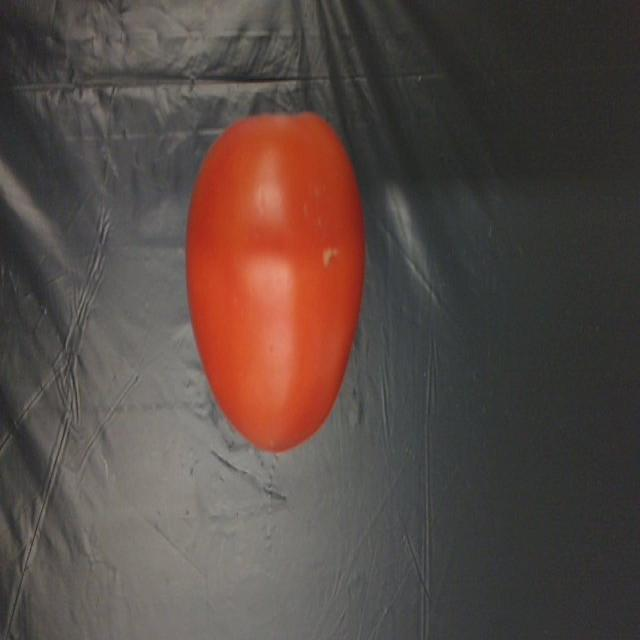kirmizi: (188, 110, 373, 468)
